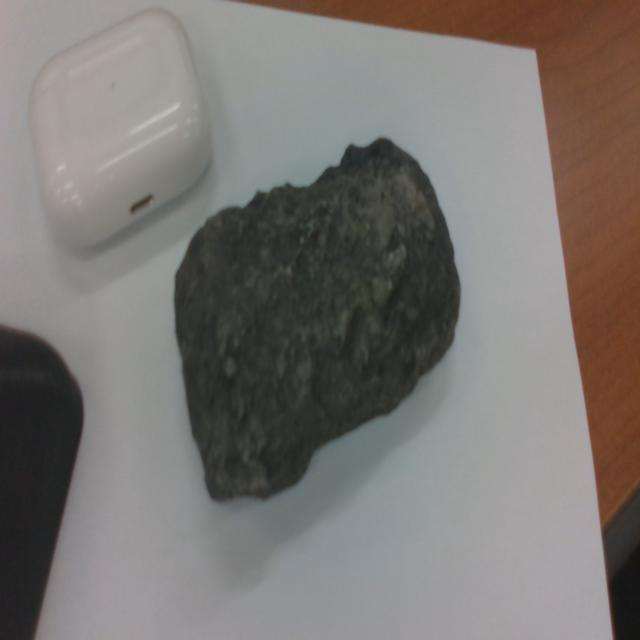stone: (180, 146, 459, 494)
